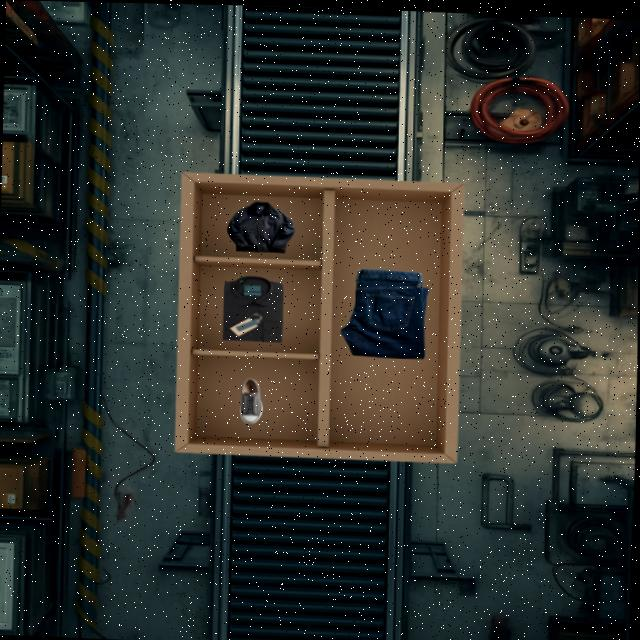jacket: (227, 201, 294, 253)
shirt: (223, 276, 284, 342)
sneaker: (240, 379, 263, 423)
trousers: (341, 269, 428, 358)
